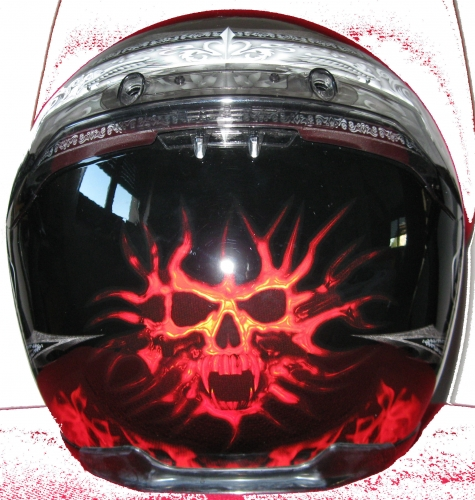helmet: (9, 37, 462, 488)
